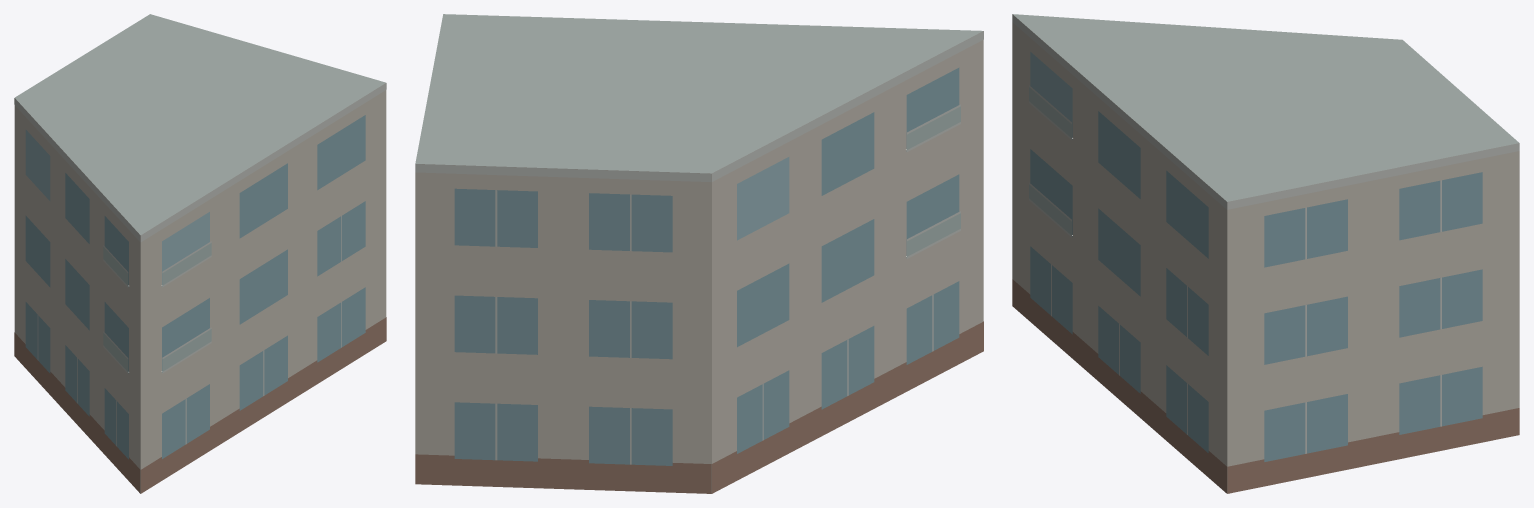
File: survey-upis-32496271.glb
The picture shows the model from 3 angles, left to right: view 1: azimuth 30°, elevation 25°; view 2: azimuth 150°, elevation 25°; view 3: azimuth 270°, elevation 25°; orthographic projection. The views are drawn at different scales.
Parts seen in each view (by area): view 1: survey-upis-32496271.tmp; view 2: survey-upis-32496271.tmp; view 3: survey-upis-32496271.tmp.
Part boxes in pixels (x1,y1,x2,y2): survey-upis-32496271.tmp: [14, 14, 386, 493]; survey-upis-32496271.tmp: [415, 14, 983, 493]; survey-upis-32496271.tmp: [1012, 14, 1519, 493].
Bounding box in the file's own units: 12.44 × 9 × 14.18.
